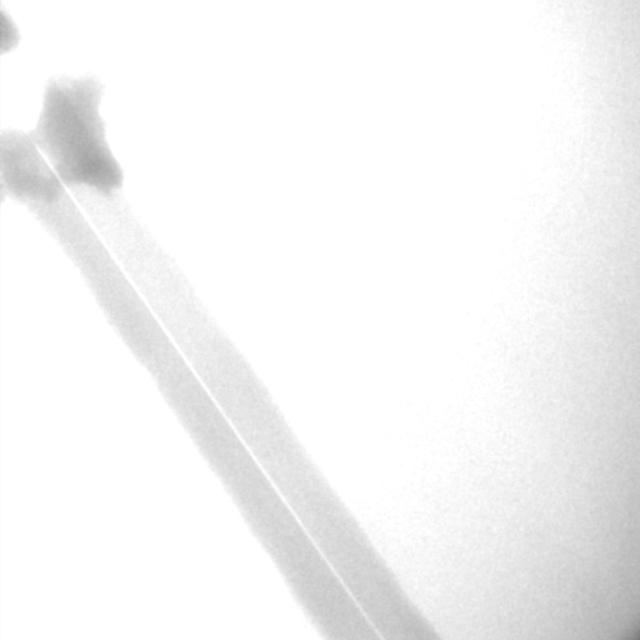broken arc: (36, 145, 381, 637)
